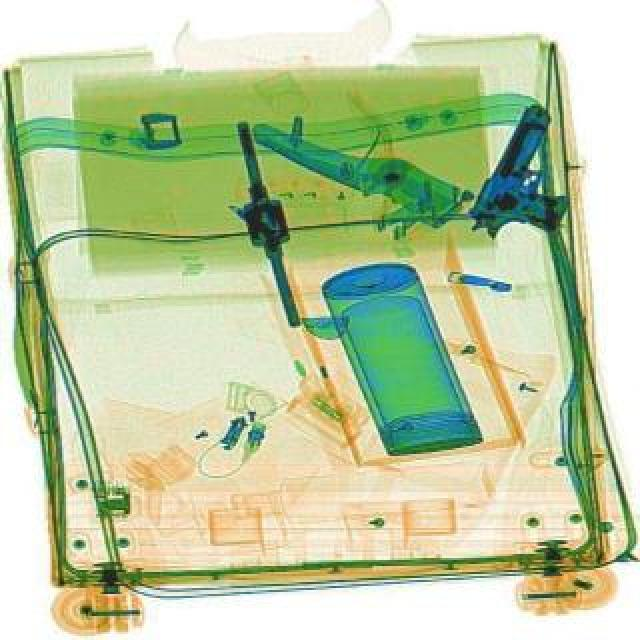gun: (458, 98, 602, 260)
